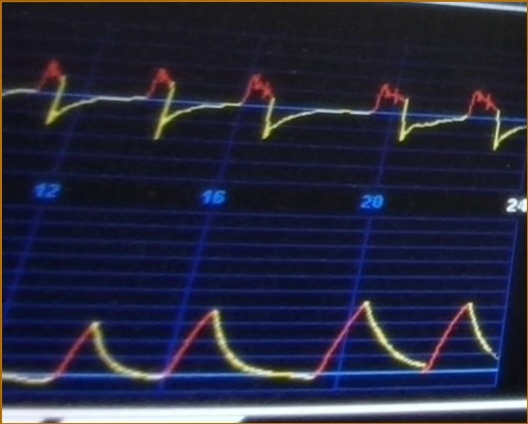Accumulation Flow: (3, 46, 526, 162)
Volume: (4, 274, 498, 393)
